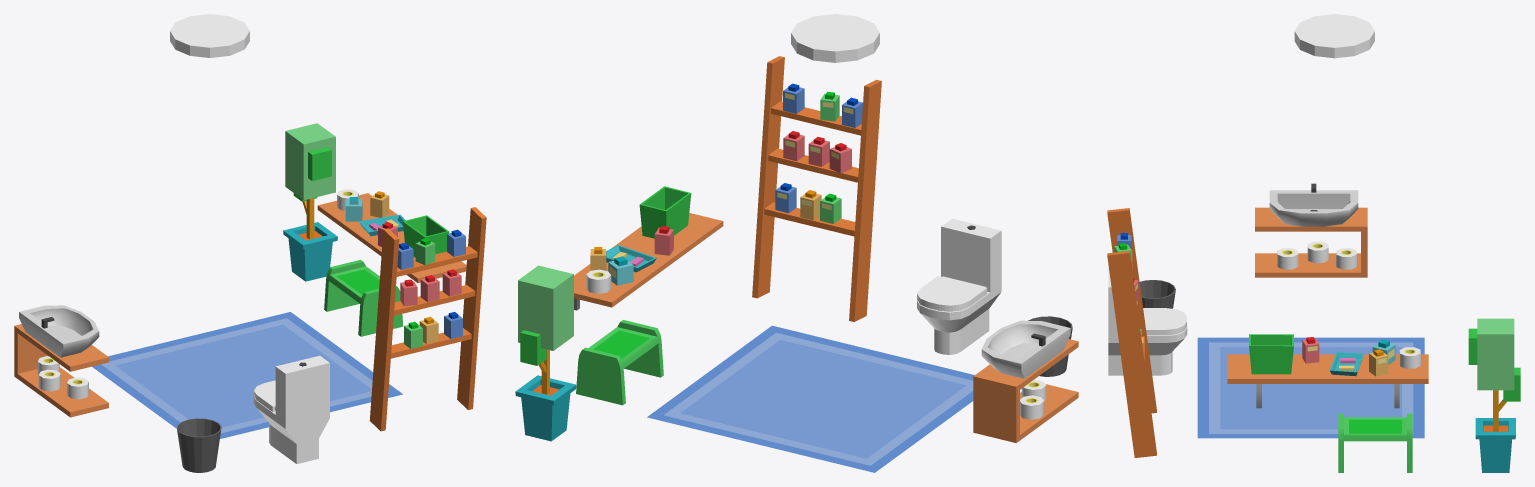
File: BanosObjetos02.fbx
3 views of the same model, side by side, from view 1: azimuth 30°, elevation 25°; view 2: azimuth 150°, elevation 25°; view 3: azimuth 270°, elevation 25° (orthographic). The views are drawn at different scales.
Visible parts, largest first — view 1: BanosObjetos02; view 2: BanosObjetos02; view 3: BanosObjetos02.
Part boxes in pixels (x1,y1,x2,y2): BanosObjetos02: (14,14,486,472); BanosObjetos02: (515,14,1078,472); BanosObjetos02: (1107,14,1520,472).
Size of the model in its own units: 396 by 341 by 367.
